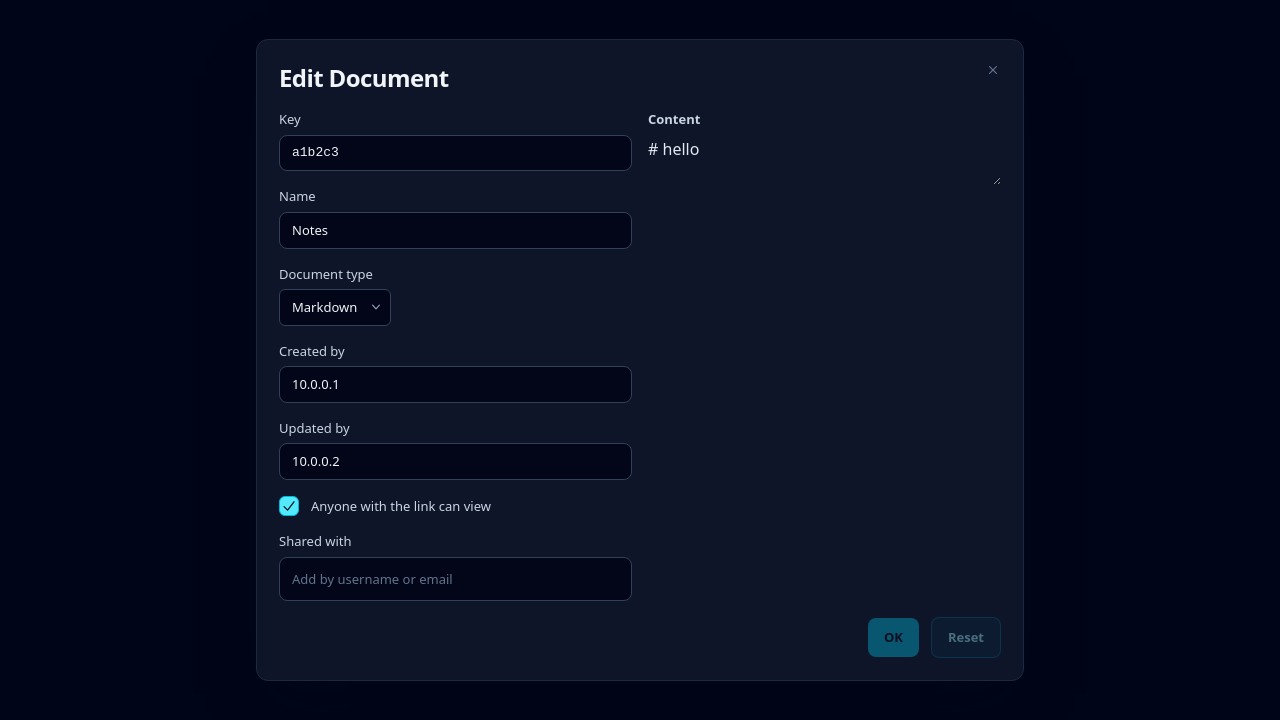
Test: EditDocumentDialog › keeps OK disabled until a field changes
The image size is (1280, 720).
Check: the button "OK" is disabled, box [868,618,919,657]
Step 1. Replace the text in the field labelled "Name" with "Renamed" → (456, 230), box [279,212,632,249]
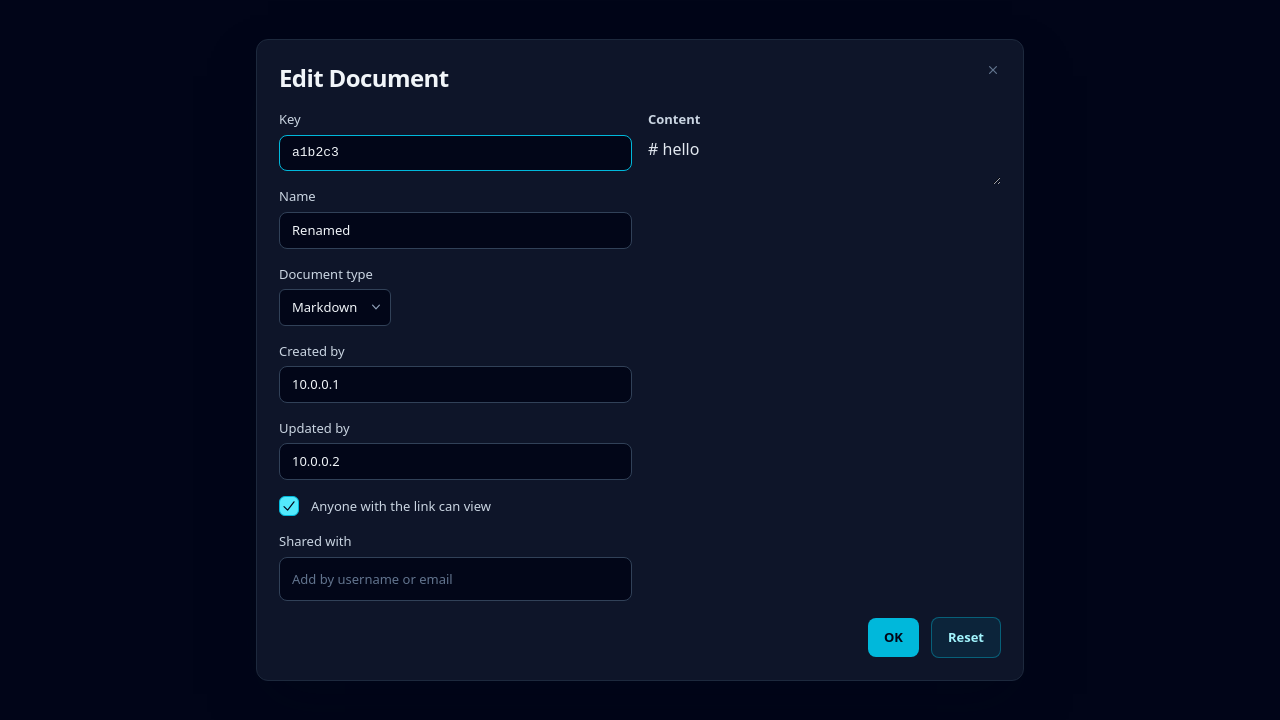
Check: the button "OK" is enabled, box [868,618,919,657]
